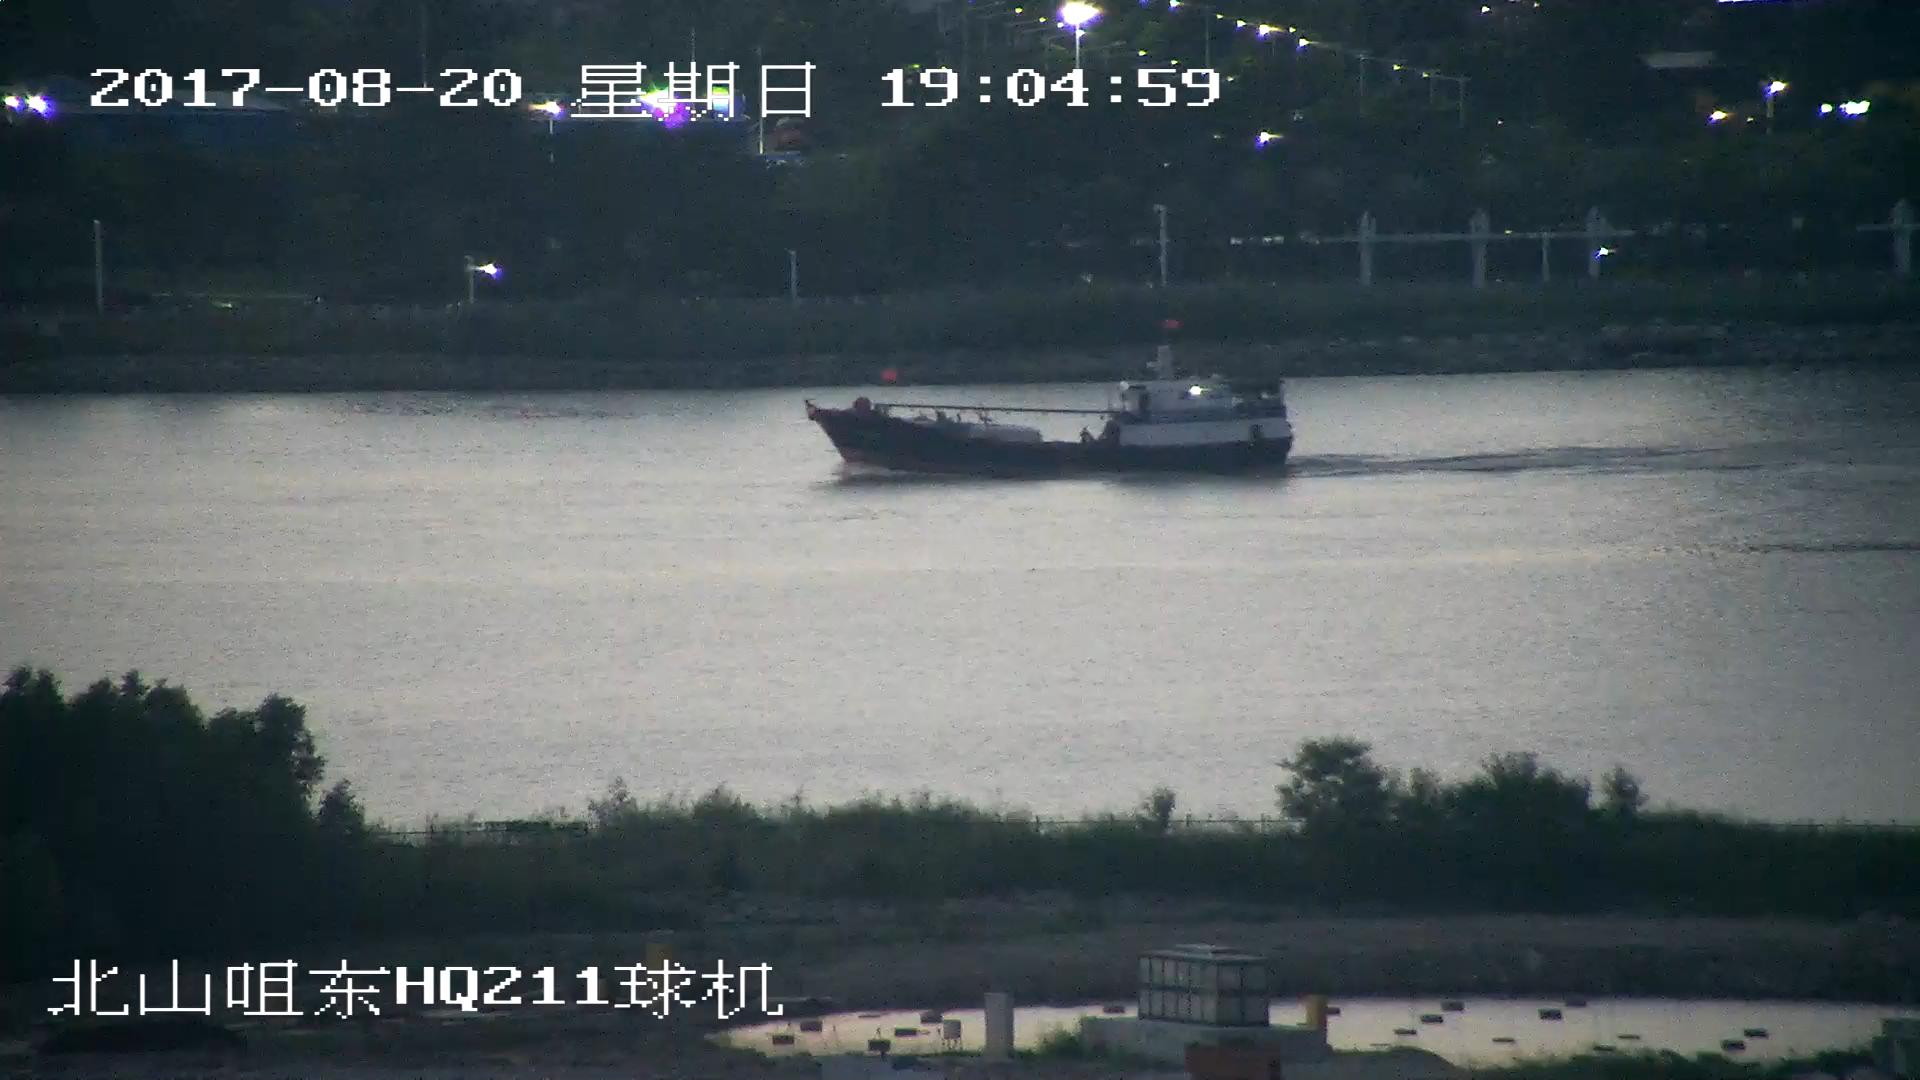fishing boat: (812, 347, 1298, 479)
